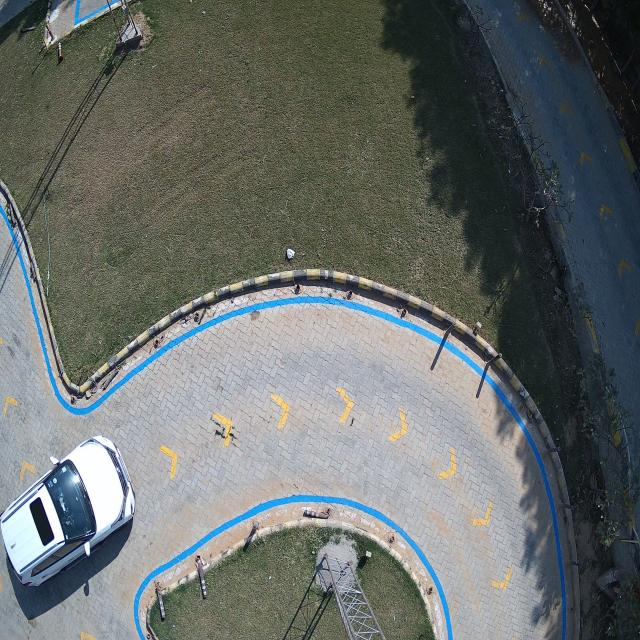car: (0, 435, 135, 587)
